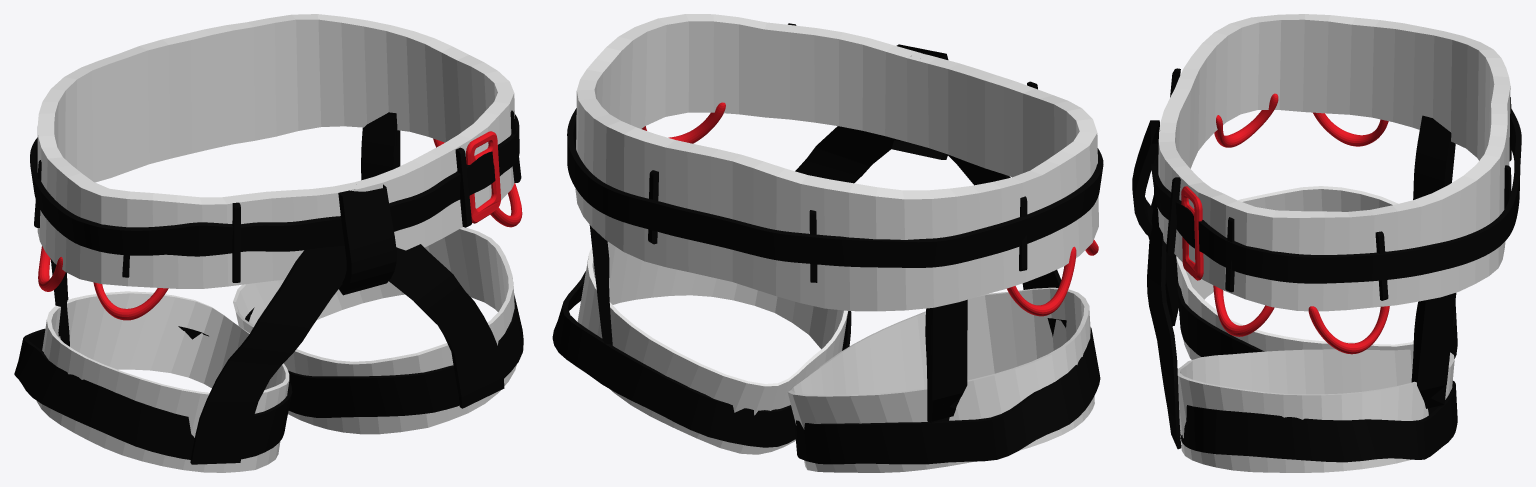
File: Cinturón Suspensión Incorrecto.fbx
3 renders of one model, left to right at view 1: azimuth 30°, elevation 25°; view 2: azimuth 150°, elevation 25°; view 3: azimuth 270°, elevation 25°, orthographic. The views are drawn at different scales.
Visible parts, largest first — view 1: negro; view 2: negro; view 3: negro.
Boxes of the visible parts, x1,y1,x2,y2 form: negro: [14, 14, 523, 472]; negro: [552, 14, 1103, 472]; negro: [1132, 14, 1521, 472].
Size of the model in its own units: 293 by 191 by 214.
